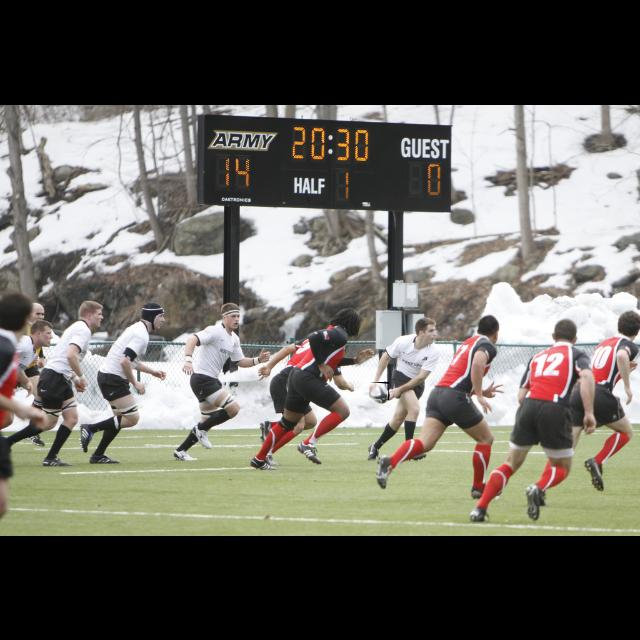Football: (369, 382, 389, 400)
